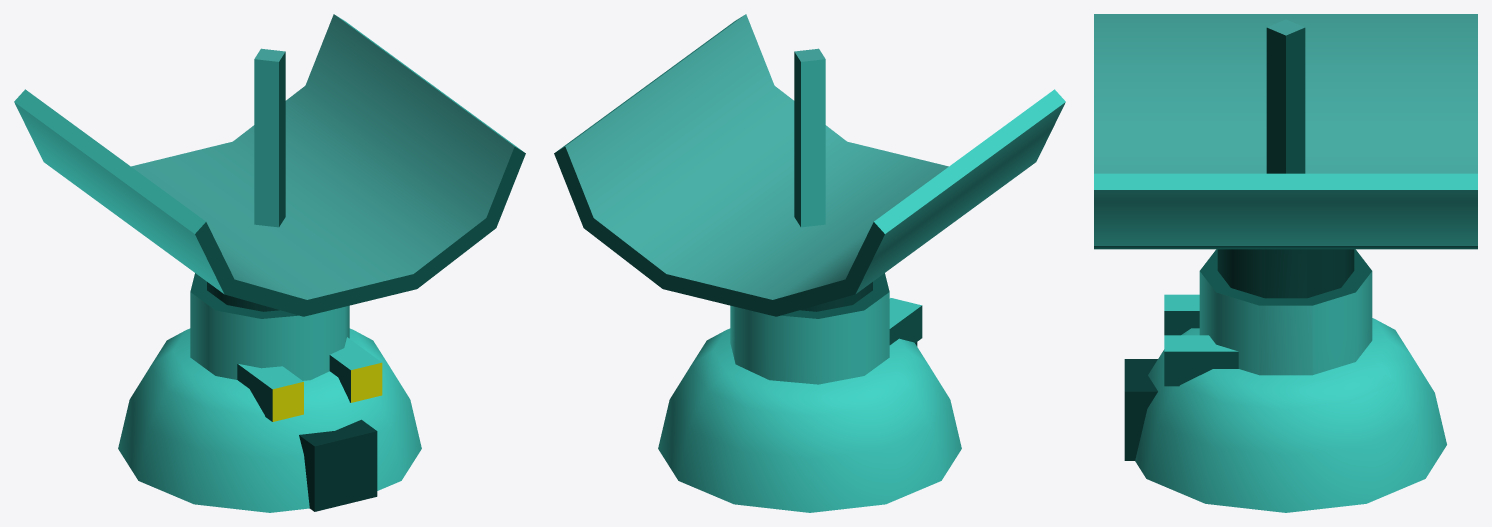
The model's file is Lab.TealGalaxy.glb.
The picture shows the model from 3 angles, left to right: view 1: azimuth 30°, elevation 25°; view 2: azimuth 150°, elevation 25°; view 3: azimuth 270°, elevation 25°; orthographic projection. The views are drawn at different scales.
Parts seen in each view (by area): view 1: Lab.TealGalaxy; view 2: Lab.TealGalaxy; view 3: Lab.TealGalaxy.
Boxes of the visible parts, x1,y1,x2,y2 form: Lab.TealGalaxy: (14, 14, 525, 512); Lab.TealGalaxy: (554, 14, 1065, 512); Lab.TealGalaxy: (1094, 14, 1477, 512).
Bounding box in the file's own units: 2.11 × 2.41 × 2.
2 materials, 1 textured.
